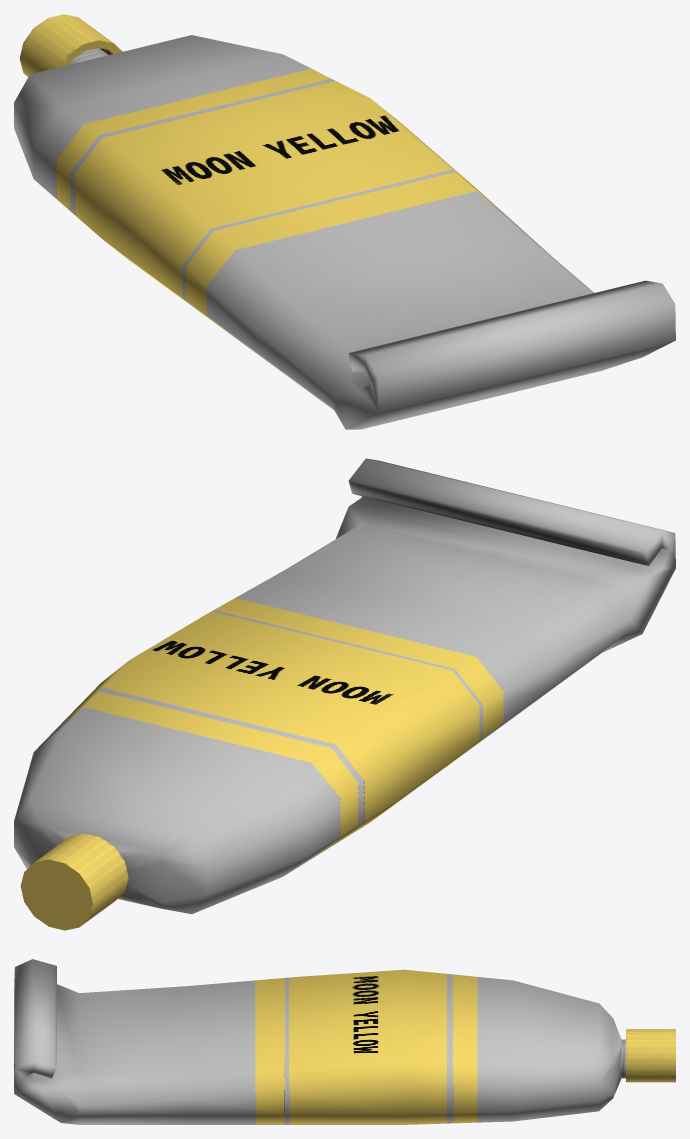
Rendered from paint_03.fbx.
3 views of the same model, one above another, from view 1: azimuth 30°, elevation 25°; view 2: azimuth 150°, elevation 25°; view 3: azimuth 270°, elevation 25° (orthographic). The views are drawn at different scales.
Parts seen in each view (by area): view 1: paint_03, paint_03.lid; view 2: paint_03, paint_03.lid; view 3: paint_03, paint_03.lid.
Part boxes in pixels (<box>): paint_03: <box>14,35,675,429</box>; paint_03.lid: <box>19,14,122,76</box>; paint_03: <box>14,458,675,914</box>; paint_03.lid: <box>20,833,128,930</box>; paint_03: <box>14,959,625,1124</box>; paint_03.lid: <box>626,1029,675,1082</box>.
Bounding box in the file's own units: 11.6 × 3.91 × 31.88.
